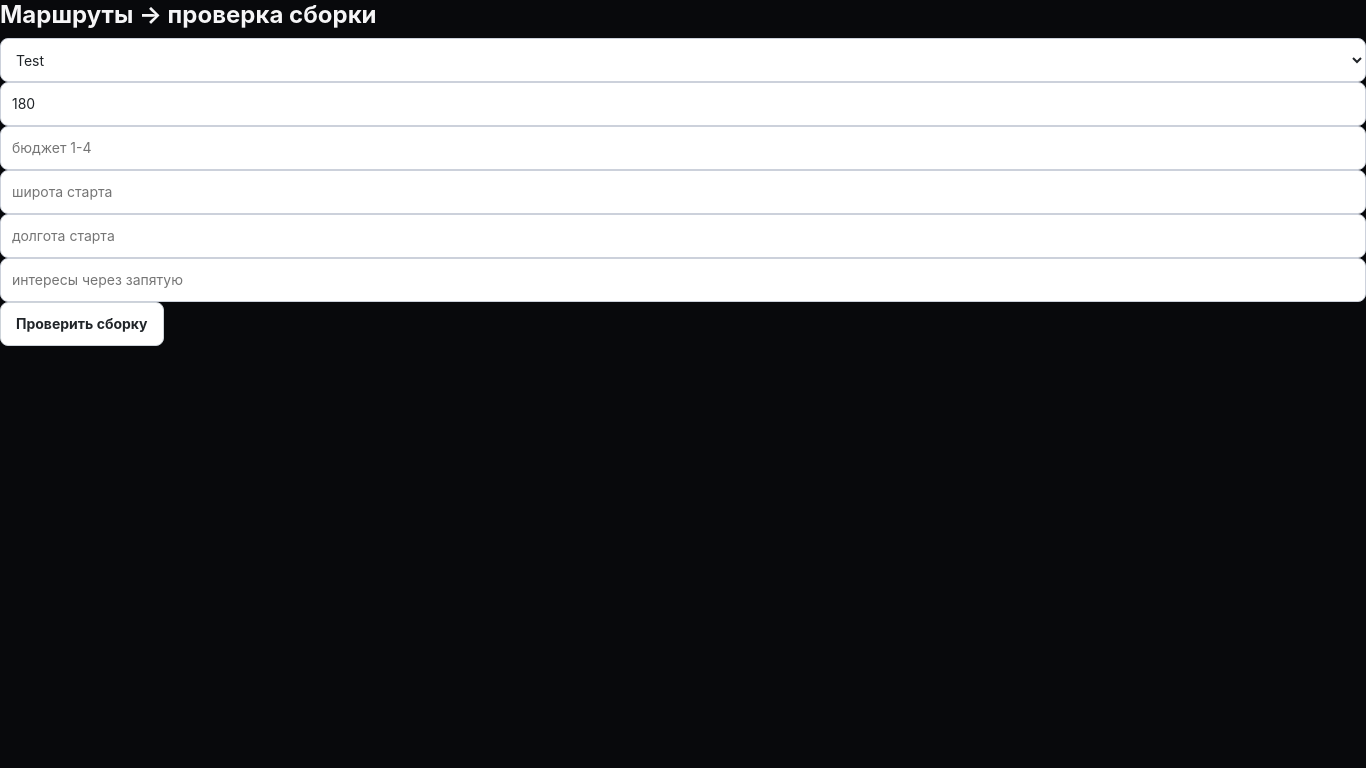
Scenario: AdminRouteDryRunPage › renders form and submits dry run_new
The width and height of the screenshot is (1366, 768).
Expected: the heading "Маршруты → проверка сборки" is shown, [0,0,377,29]
Click the button "Проверить сборку": click(82, 324) [0,302,164,346]
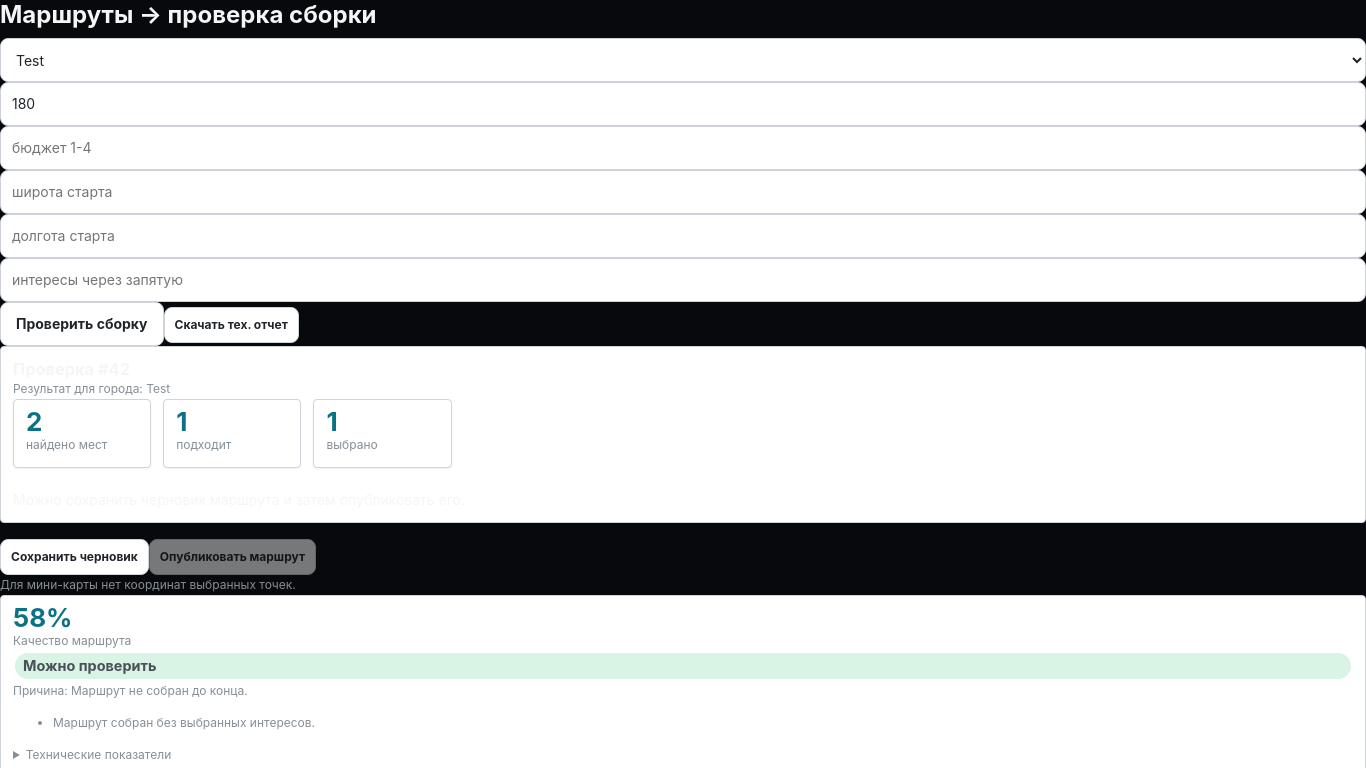
Result: the text "Результат для города: Test" is shown at [13,381,170,396]
Result: the list item "Маршрут собран без выбранных интересов." is shown at [53,715,315,730]
